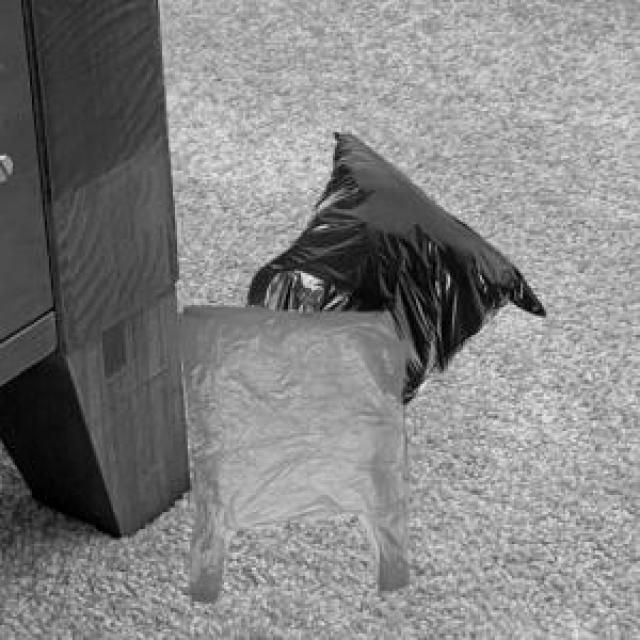miscellaneous trash: (241, 128, 542, 401)
